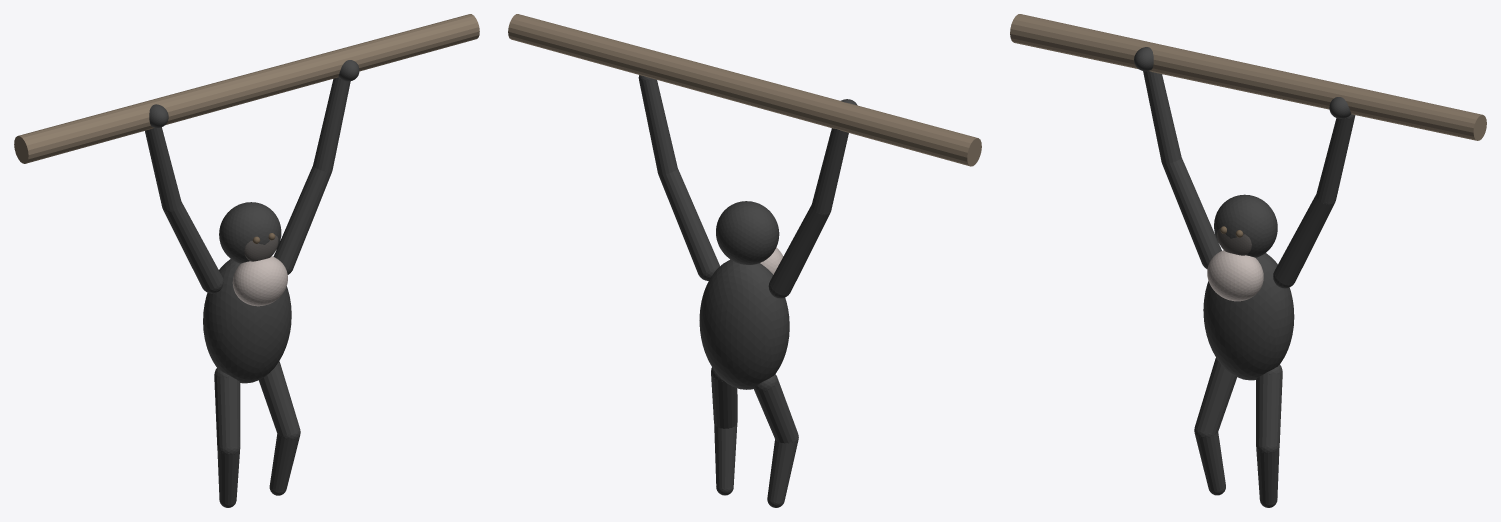
Rendered from siamang.glb.
3 views of the same model, side by side, from view 1: azimuth 30°, elevation 25°; view 2: azimuth 150°, elevation 25°; view 3: azimuth 330°, elevation 25° (orthographic). The views are drawn at different scales.
Parts seen in each view (by area): view 1: siamang; view 2: siamang; view 3: siamang.
Boxes of the visible parts, left/top/right/bottom form: siamang: left=14, top=14, right=479, bottom=507; siamang: left=508, top=14, right=981, bottom=507; siamang: left=1010, top=14, right=1486, bottom=507.
Bounding box in the file's own units: 1.8 × 1.62 × 0.3.
